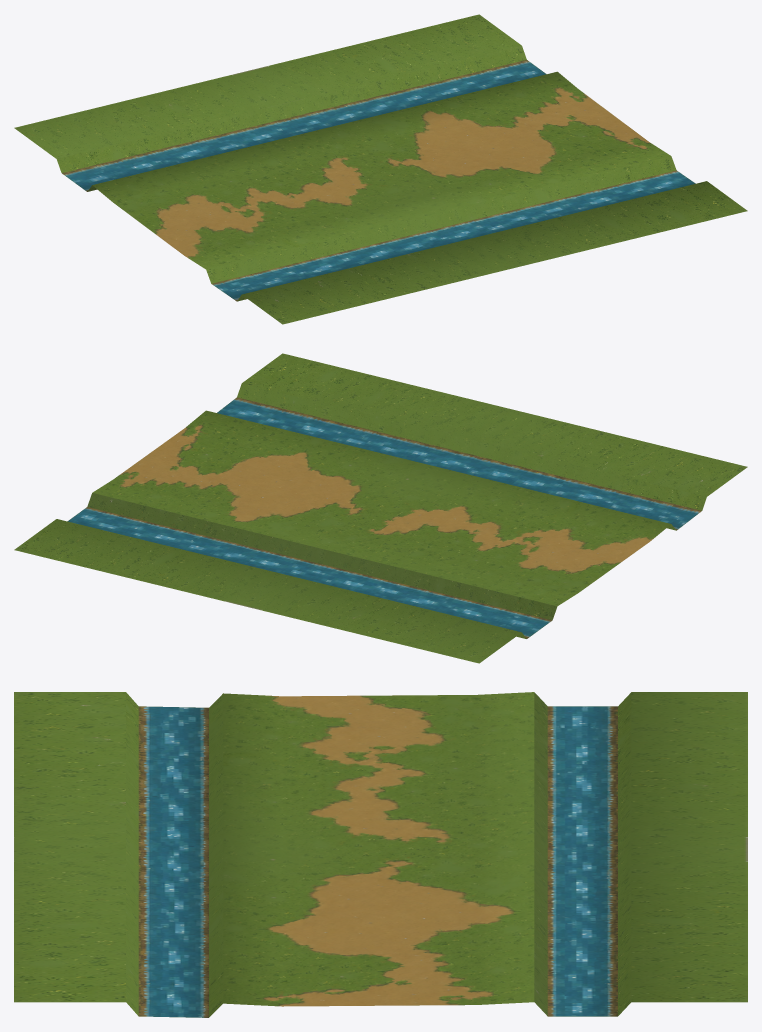
File: Ground_Level_2_Water.fbx
3 views of the same model, one above another, from view 1: azimuth 30°, elevation 25°; view 2: azimuth 150°, elevation 25°; view 3: azimuth 270°, elevation 25° (orthographic). The views are drawn at different scales.
Visible parts, largest first — view 1: Plane.012; view 2: Plane.012; view 3: Plane.012.
Boxes of the visible parts, x1,y1,x2,y2 form: Plane.012: (14,14,747,324); Plane.012: (14,353,747,663); Plane.012: (14,692,747,1017).
Size of the model in its own units: 2338 by 55.36 by 2338.
